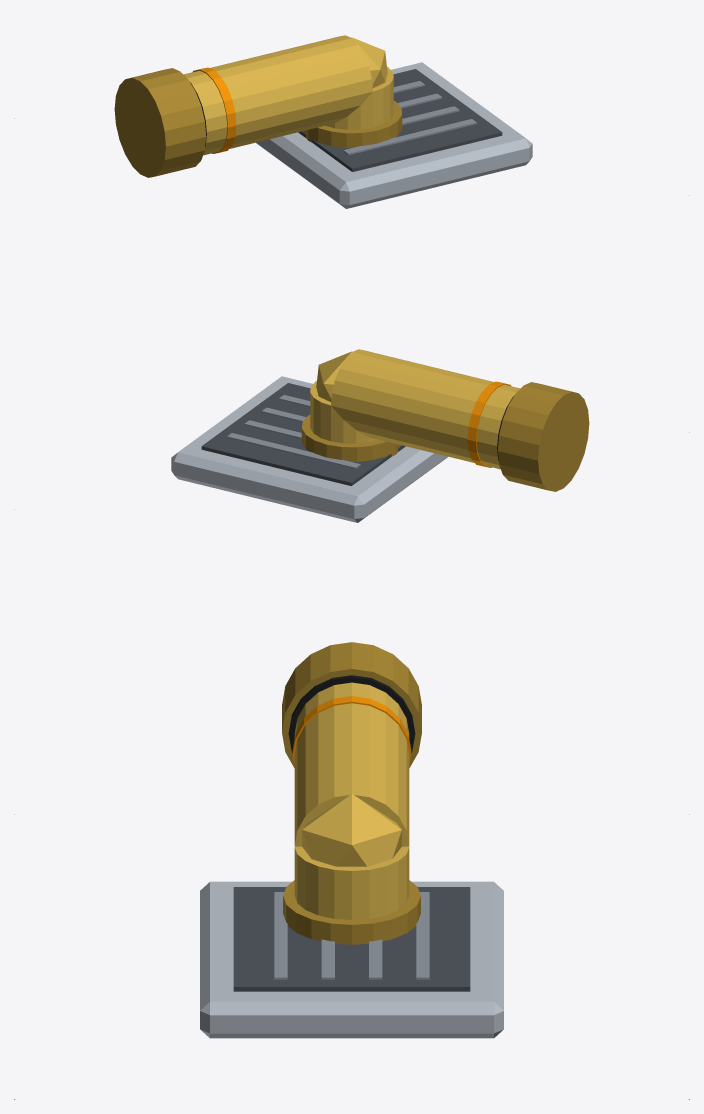
Rendered from tuyau_regard_t2.glb.
The picture shows the model from 3 angles, top to bottom: view 1: azimuth 30°, elevation 25°; view 2: azimuth 150°, elevation 25°; view 3: azimuth 270°, elevation 25°; orthographic projection. The views are drawn at different scales.
Parts seen in each view (by area): view 1: pieces_laiton.014, pieces_gris_clair.014, pieces_laiton_sombre.014, pieces_acier_sombre.050, pieces_acier.028, pieces_rive_t2.016; view 2: pieces_laiton.014, pieces_gris_clair.014, pieces_laiton_sombre.014, pieces_acier_sombre.050, pieces_acier.028, pieces_rive_t2.016; view 3: pieces_laiton.014, pieces_gris_clair.014, pieces_acier_sombre.050, pieces_laiton_sombre.014, pieces_acier.028, pieces_noir.022, pieces_rive_t2.016.
Boxes of the visible parts, <box> form: pieces_laiton.014: <box>183,35,393,155</box>; pieces_gris_clair.014: <box>256,62,532,208</box>; pieces_laiton_sombre.014: <box>114,68,402,177</box>; pieces_acier_sombre.050: <box>298,69,502,171</box>; pieces_acier.028: <box>343,81,476,155</box>; pieces_rive_t2.016: <box>192,67,236,153</box>; pieces_laiton.014: <box>310,349,520,469</box>; pieces_gris_clair.014: <box>171,376,447,522</box>; pieces_laiton_sombre.014: <box>301,382,589,491</box>; pieces_acier_sombre.050: <box>201,383,405,485</box>; pieces_acier.028: <box>227,395,360,469</box>; pieces_rive_t2.016: <box>467,381,511,467</box>; pieces_laiton.014: <box>294,682,409,919</box>; pieces_gris_clair.014: <box>200,881,503,1038</box>; pieces_acier_sombre.050: <box>233,887,470,991</box>; pieces_laiton_sombre.014: <box>282,642,421,944</box>; pieces_acier.028: <box>274,892,429,979</box>; pieces_noir.022: <box>288,675,415,752</box>; pieces_rive_t2.016: <box>292,696,411,764</box>.
Bounding box in the file's own units: 1 × 0.2837 × 1.
